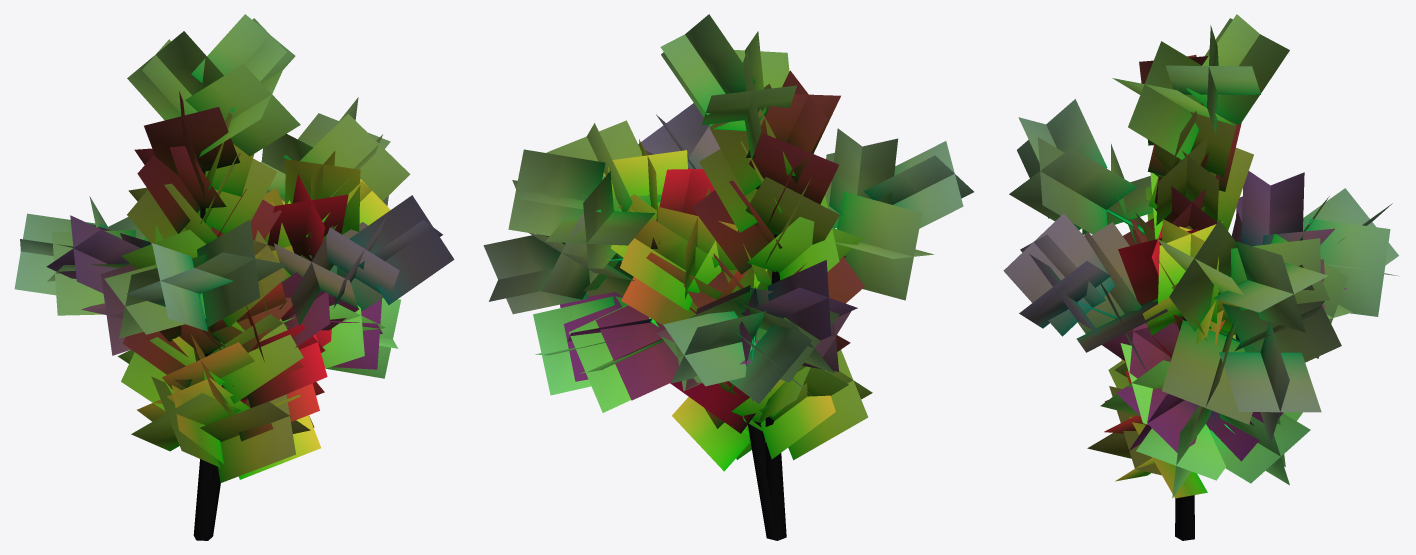
Rendered from URP_P3_Tree_12_LOD_3.fbx.
The picture shows the model from 3 angles, left to right: view 1: azimuth 30°, elevation 25°; view 2: azimuth 150°, elevation 25°; view 3: azimuth 270°, elevation 25°; orthographic projection. The views are drawn at different scales.
Visible parts, largest first — view 1: Tree_12_LOD_3; view 2: Tree_12_LOD_3; view 3: Tree_12_LOD_3.
Part boxes in pixels (box(x1,y1,x2,y2)): Tree_12_LOD_3: box(14, 14, 454, 540); Tree_12_LOD_3: box(483, 14, 973, 540); Tree_12_LOD_3: box(1003, 14, 1399, 540).
Bounding box in the file's own units: 515 × 677 × 453.
